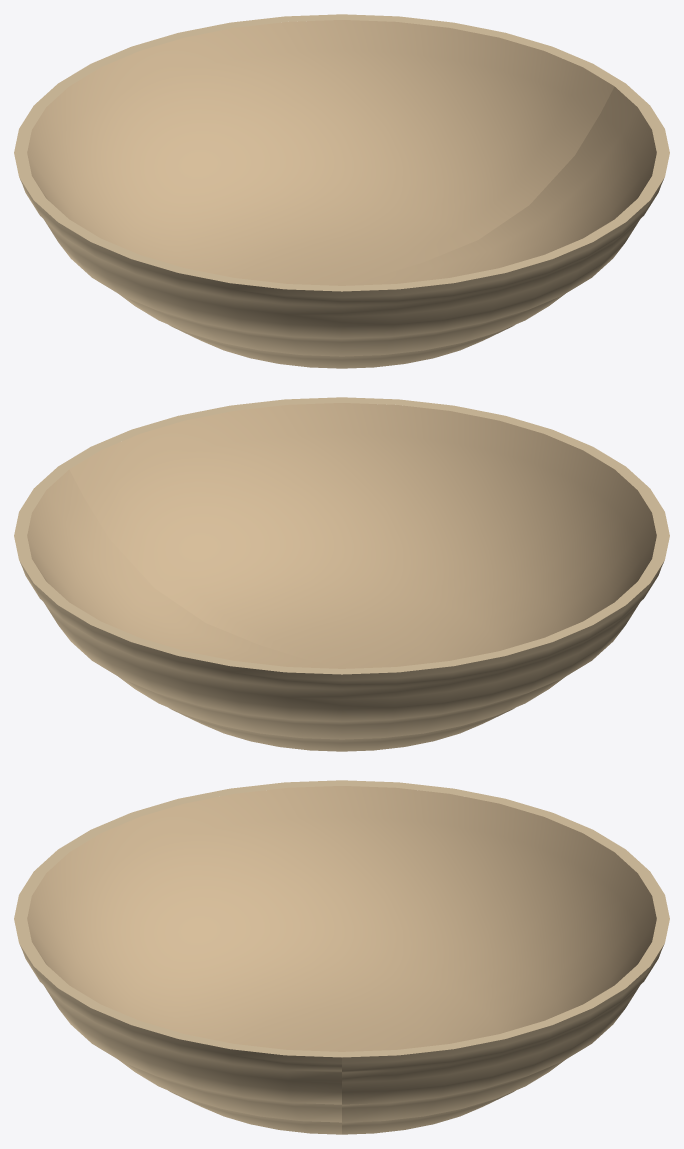
File: fresh-produce-and-groceries-wooden-market-bowl-24ec8579__24454.glb
The picture shows the model from 3 angles, top to bottom: view 1: azimuth 30°, elevation 25°; view 2: azimuth 150°, elevation 25°; view 3: azimuth 270°, elevation 25°; orthographic projection.
Visible parts, largest first — view 1: wooden-market-bowl; view 2: wooden-market-bowl; view 3: wooden-market-bowl.
Part boxes in pixels (x1,y1,x2,y2): wooden-market-bowl: (14, 14, 669, 368); wooden-market-bowl: (14, 397, 669, 751); wooden-market-bowl: (14, 780, 669, 1134).
Size of the model in its own units: 0.4 by 0.112 by 0.4.
